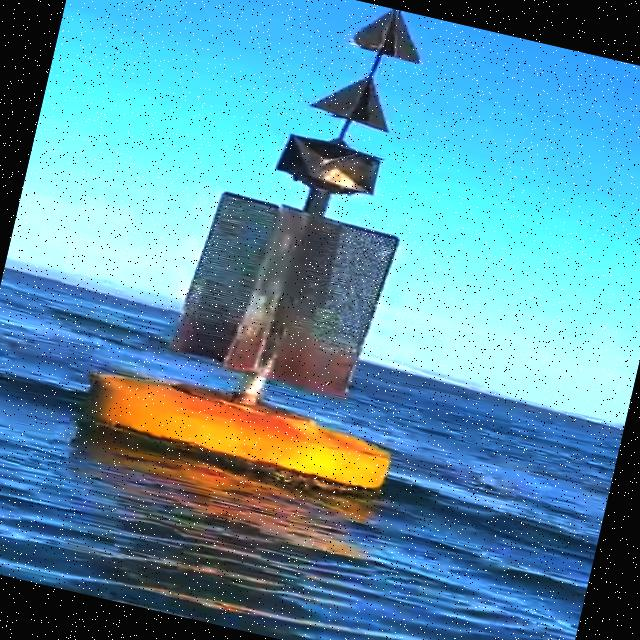marque: (82, 1, 494, 495)
